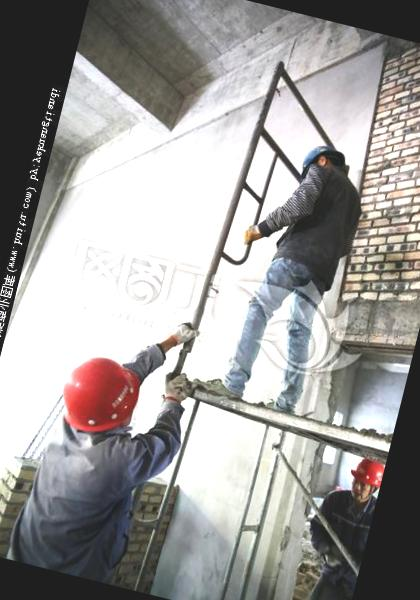person: (200, 130, 378, 422), (0, 340, 196, 591), (286, 449, 382, 600)
